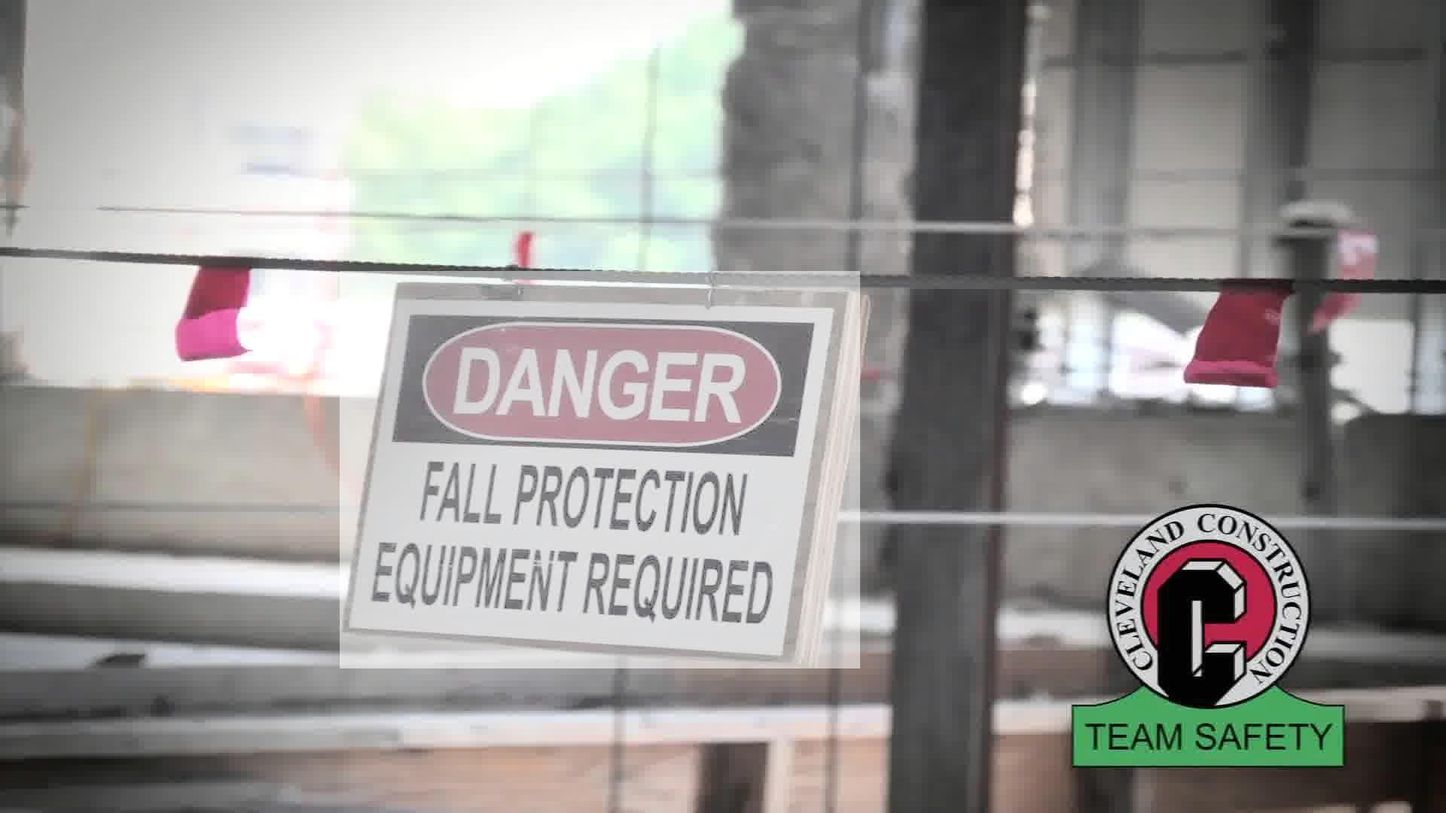safety_signage: (340, 271, 860, 668)
